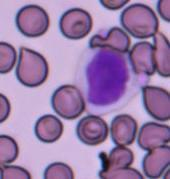M: (70, 46, 132, 114)
